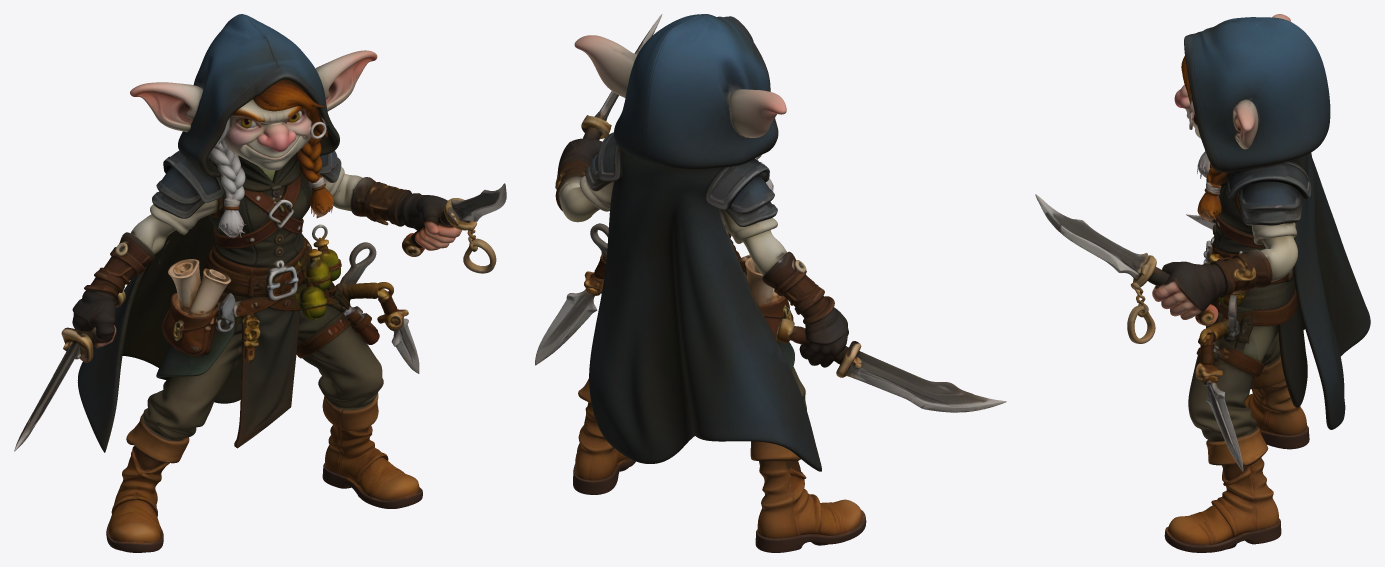
File: gnome_rogue_full_female_01.glb
3 views of the same model, side by side, from view 1: azimuth 30°, elevation 25°; view 2: azimuth 150°, elevation 25°; view 3: azimuth 270°, elevation 25° (orthographic). The views are drawn at different scales.
Parts seen in each view (by area): view 1: material; view 2: material; view 3: material.
Boxes of the visible parts, bbox=[...] form: material: bbox=[14, 14, 506, 552]; material: bbox=[535, 14, 1006, 552]; material: bbox=[1035, 14, 1370, 552].
Size of the model in its own units: 0.944 by 0.9499 by 0.6108.
Materials: 1 (1 with a texture image).
